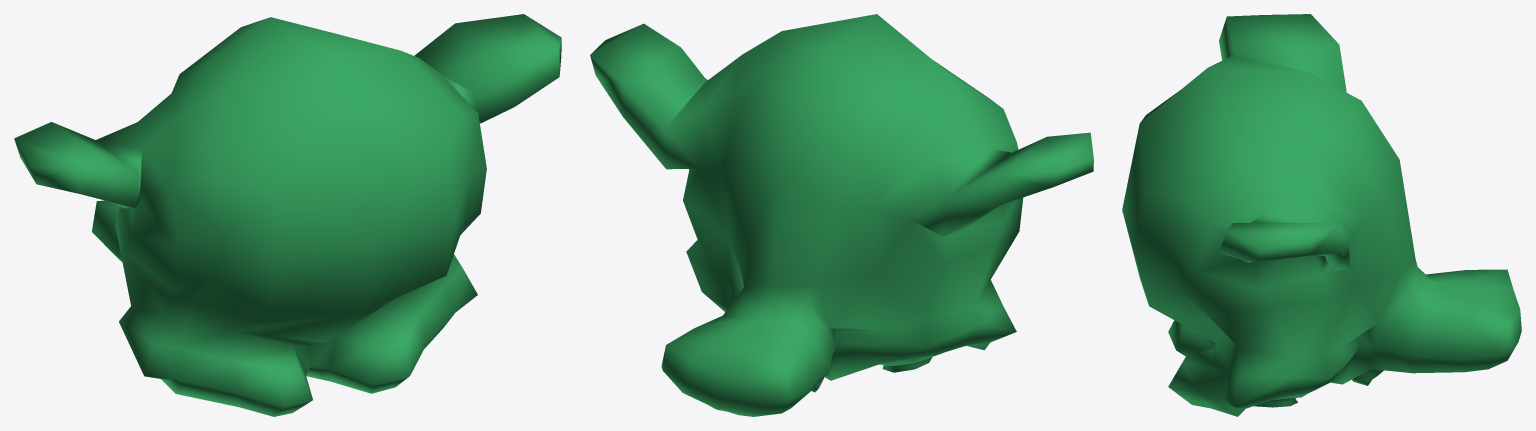
The model's file is demo_mesh_scene.obj.
The picture shows the model from 3 angles, left to right: view 1: azimuth 30°, elevation 25°; view 2: azimuth 150°, elevation 25°; view 3: azimuth 270°, elevation 25°; orthographic projection. The views are drawn at different scales.
Parts seen in each view (by area): view 1: Monkey; view 2: Monkey; view 3: Monkey.
Boxes of the visible parts, x1,y1,x2,y2 form: Monkey: (14, 14, 561, 416); Monkey: (590, 14, 1093, 416); Monkey: (1122, 14, 1521, 416).
Size of the model in its own units: 2.73 by 1.7 by 1.97.
